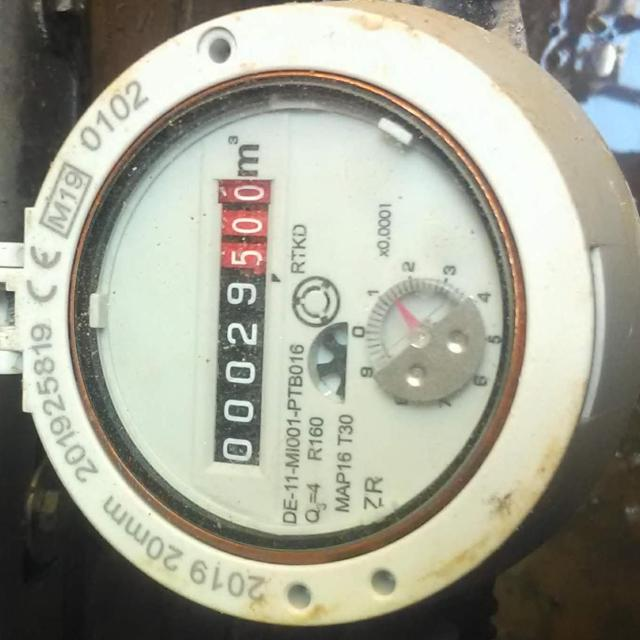gaz_meter: (70, 64, 523, 544)
indication: (212, 171, 275, 469)
